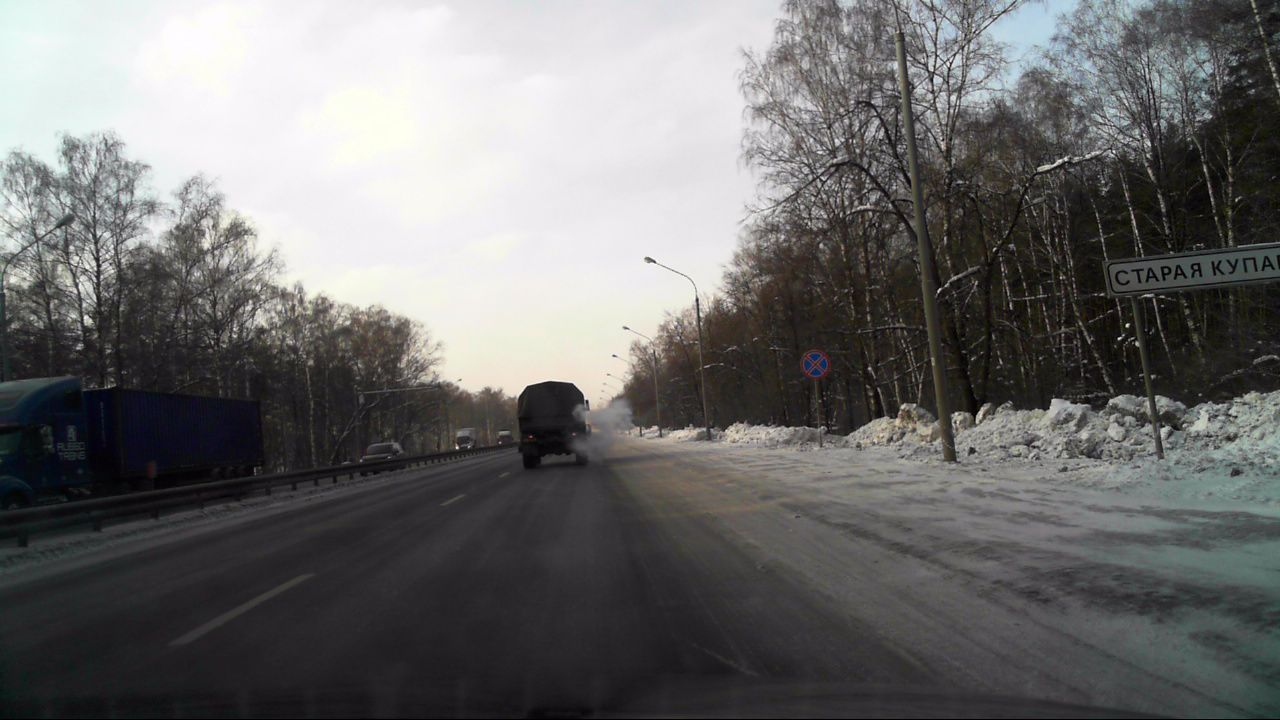No Parking: (801, 349, 829, 378)
